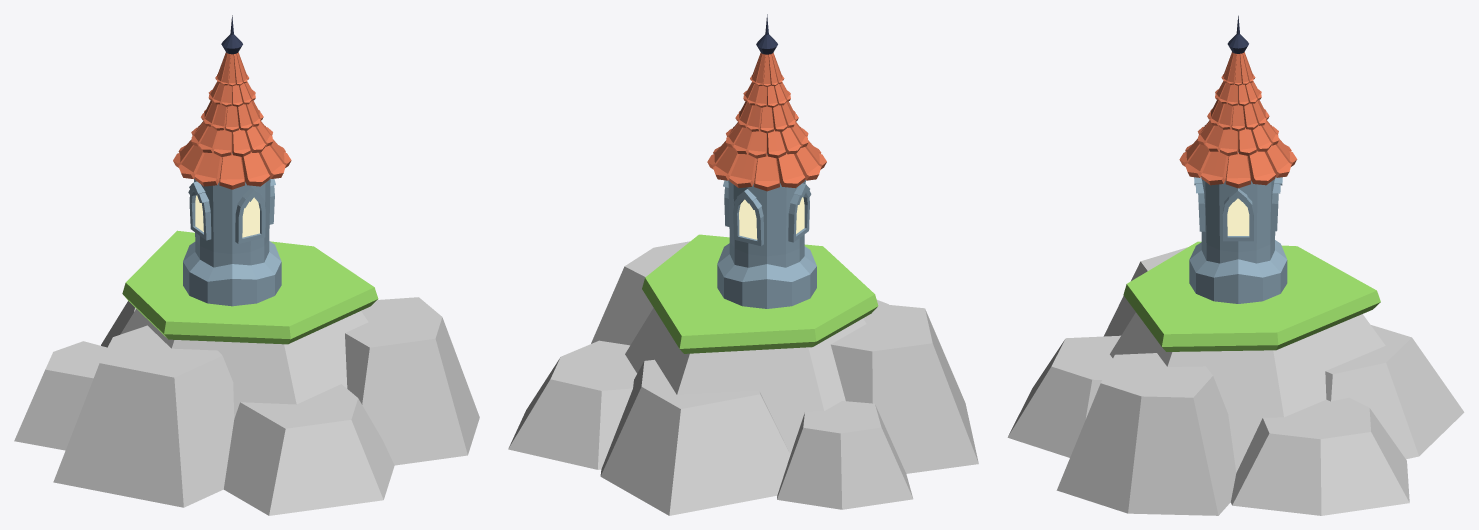
Rendered from model-whit-materials.glb.
The picture shows the model from 3 angles, left to right: view 1: azimuth 30°, elevation 25°; view 2: azimuth 150°, elevation 25°; view 3: azimuth 270°, elevation 25°; orthographic projection.
Parts seen in each view (by area): view 1: model; view 2: model; view 3: model.
Boxes of the visible parts, x1,y1,x2,y2 form: model: (14, 15, 479, 515); model: (508, 14, 978, 515); model: (1007, 15, 1464, 515).
Size of the model in its own units: 12.19 by 12.2 by 12.43.
